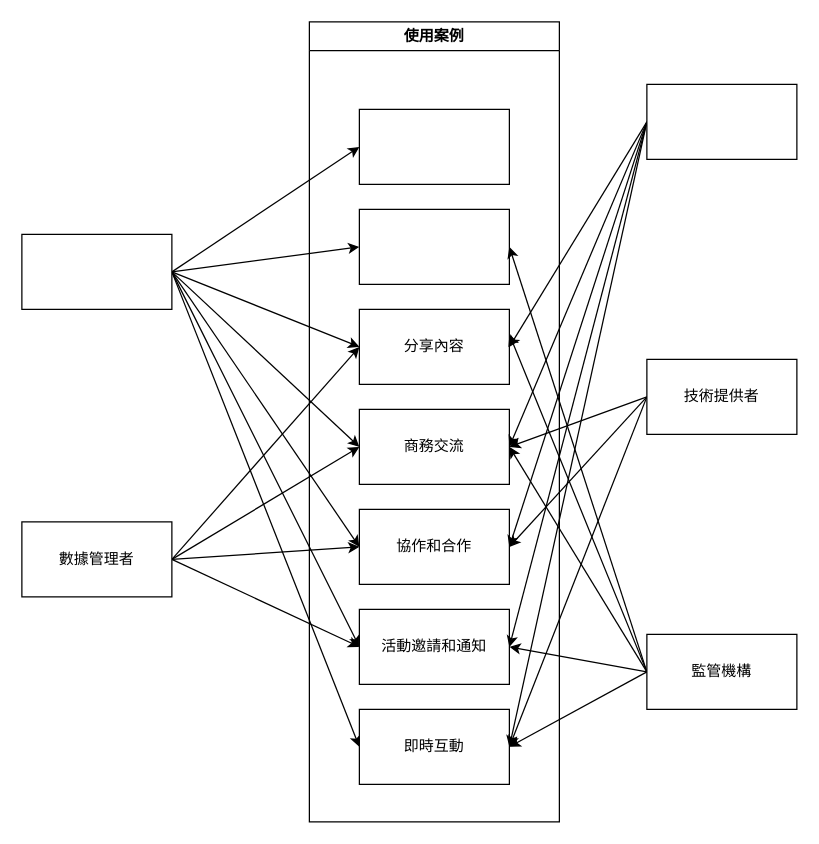
Image size: 819x844. Some labels were removed from this diagram. The centre of each missing label's shape, as x and y in pixels:
"個人" belongs at (x=96, y=271).
"平台營運商" belongs at (x=721, y=121).
"私人聊天" belongs at (x=433, y=146).
"群組對話" belongs at (x=433, y=246).
